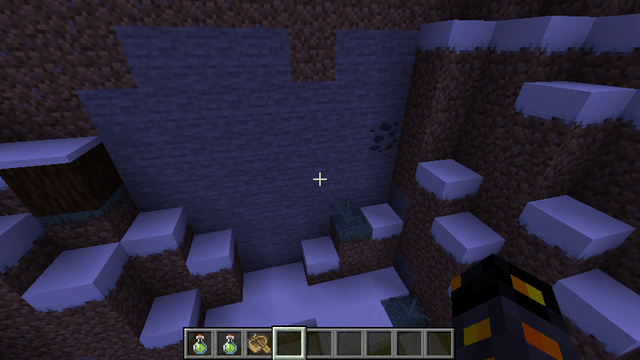coal: (364, 112, 411, 160)
